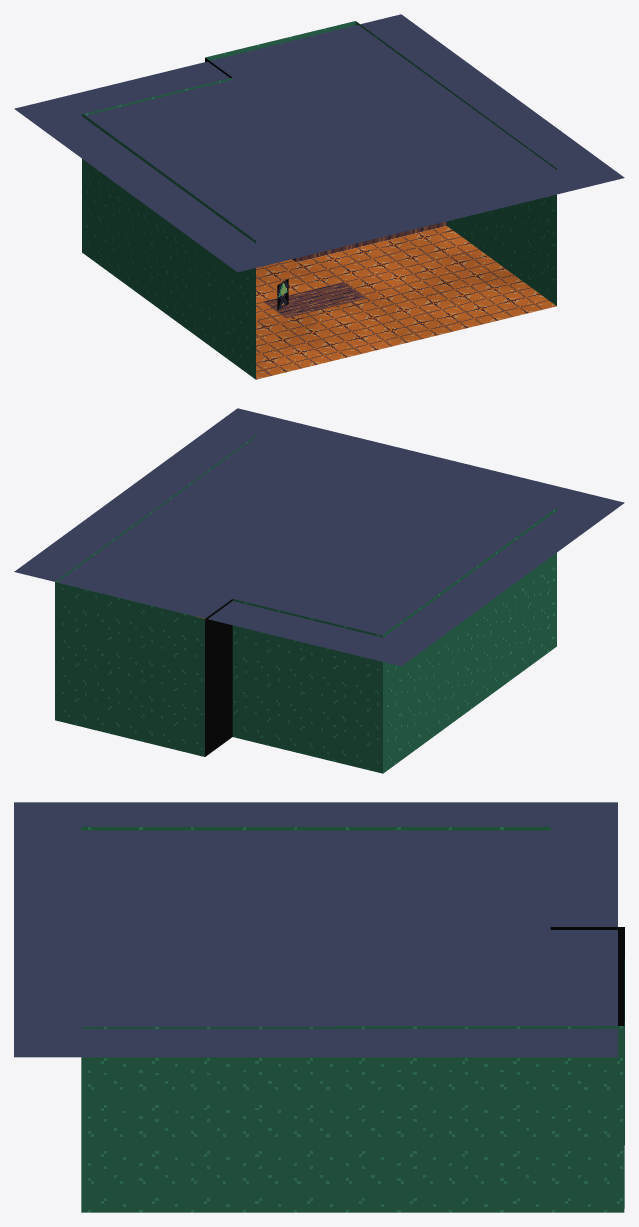
Rendered from escena.glb.
3 renders of one model, top to bottom at view 1: azimuth 30°, elevation 25°; view 2: azimuth 150°, elevation 25°; view 3: azimuth 270°, elevation 25°, orthographic. The views are drawn at different scales.
Visible parts, largest first — view 1: Plane, Paredes, Suelo, Mesa, Barra; view 2: Plane, Paredes; view 3: Plane, Paredes.
Part boxes in pixels (x1=…): Plane: x1=14, y1=14, x2=624, y2=272; Paredes: x1=82, y1=21, x2=556, y2=379; Suelo: x1=256, y1=226, x2=556, y2=379; Mesa: x1=264, y1=282, x2=365, y2=318; Barra: x1=292, y1=221, x2=446, y2=262; Plane: x1=14, y1=408, x2=624, y2=666; Paredes: x1=55, y1=435, x2=556, y2=773; Plane: x1=14, y1=802, x2=617, y2=1057; Paredes: x1=81, y1=826, x2=624, y2=1212.
Size of the model in its own units: 31.74 by 10.89 by 32.1.
Materials: 7 (6 with a texture image).
